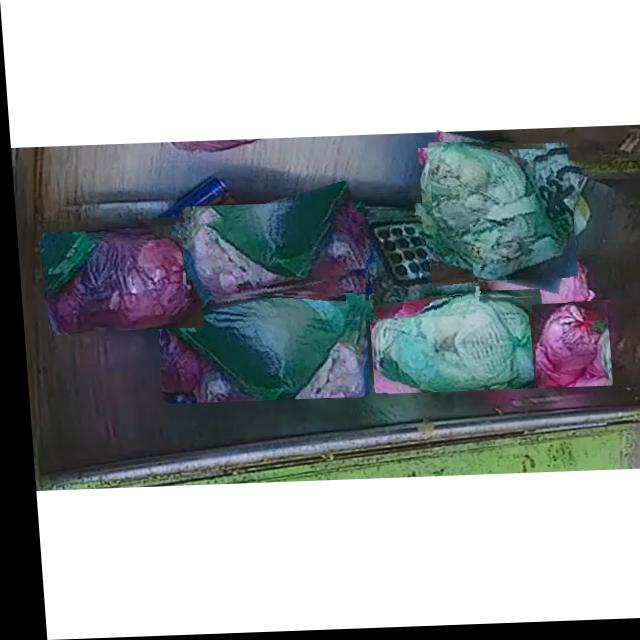general_trashbag: (152, 225, 357, 401), (427, 145, 562, 284), (367, 298, 537, 394), (340, 216, 470, 321)
other_trashbag: (47, 235, 194, 332), (178, 222, 362, 298), (531, 308, 601, 392)
